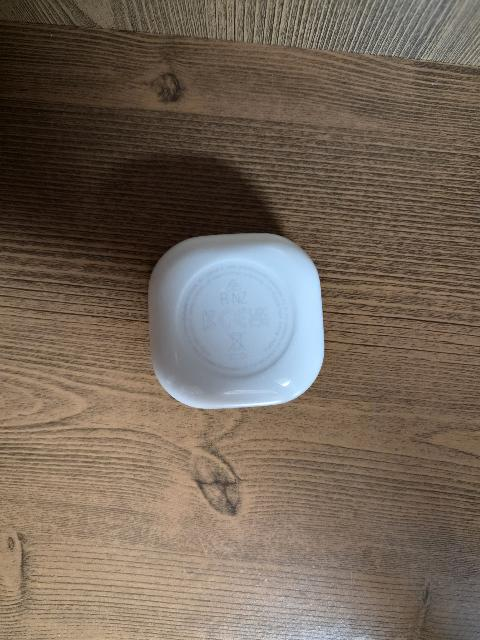earphone_case: (147, 233, 324, 408)
